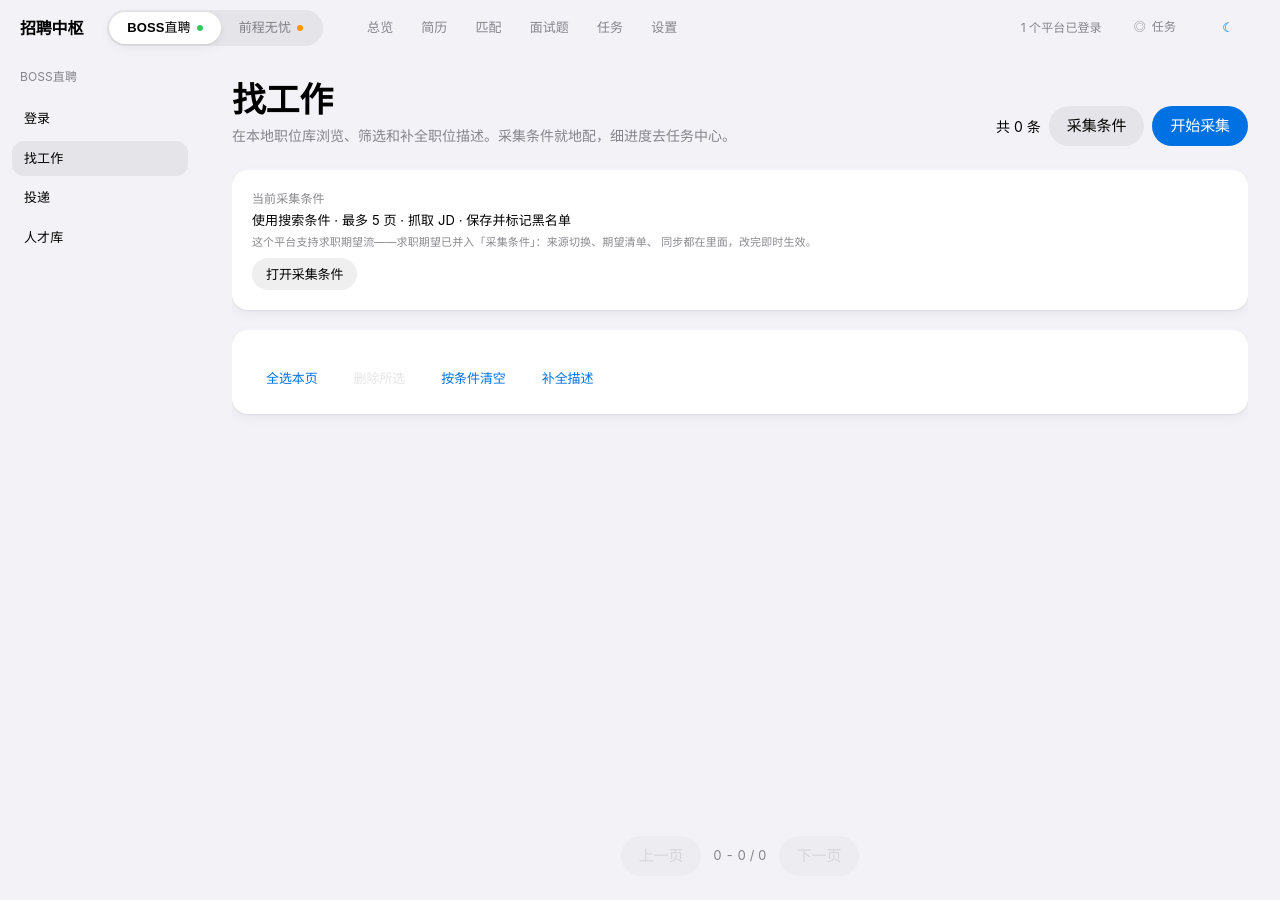
Test case: 平台切换器 › 平台作用域路由上切平台 = 原地换站点，保留当前页面
Expected: the navigation bar named "BOSS直聘 导航" is shown, [12,69,188,255]
Click the radio button labelled "前程无忧" at (271, 28), box [221,12,321,44]
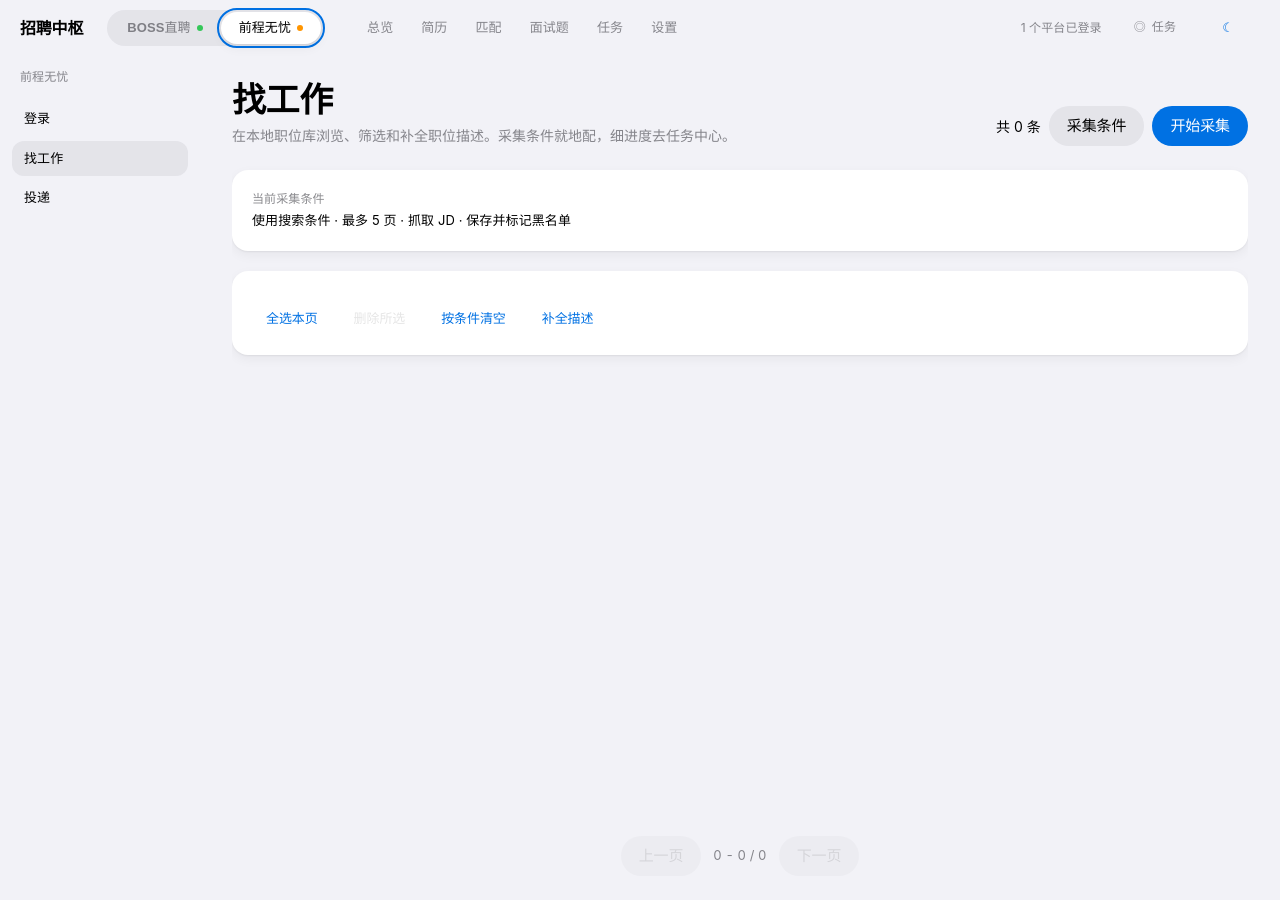
Expected: the navigation bar named "前程无忧 导航" is shown, [12,69,188,216]
